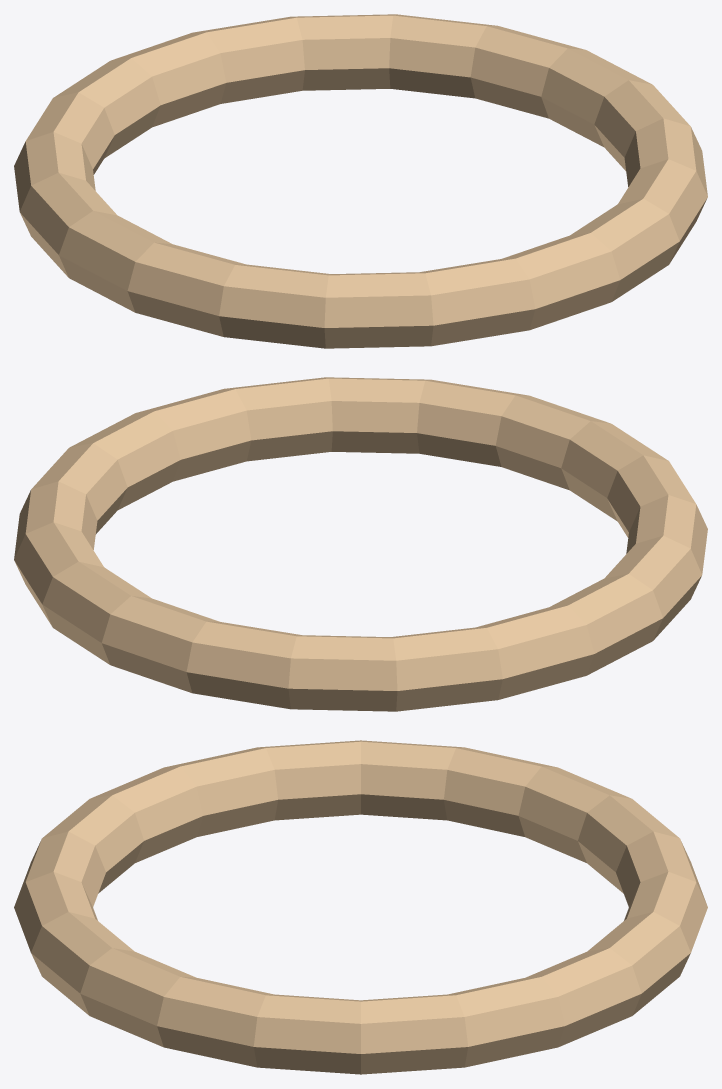
Rendered from rubber_band.glb.
3 renders of one model, top to bottom at view 1: azimuth 30°, elevation 25°; view 2: azimuth 150°, elevation 25°; view 3: azimuth 270°, elevation 25°, orthographic.
Bounding box in the file's own units: 0.079 × 0.009 × 0.079.
